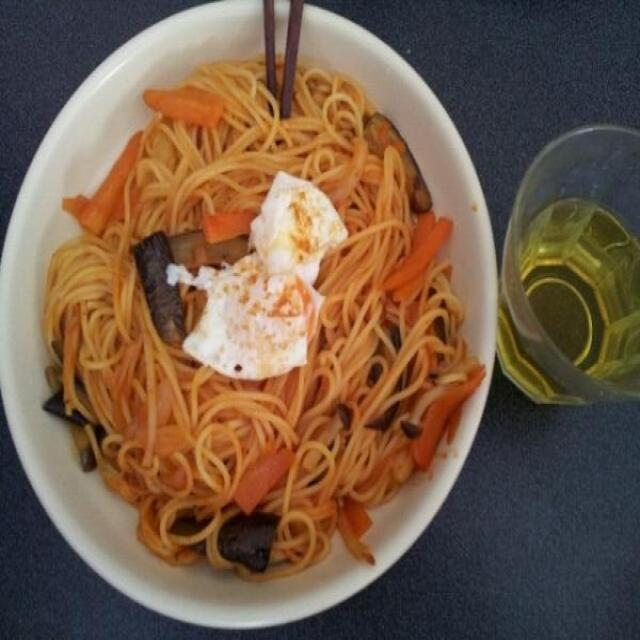Pasta: (52, 59, 463, 554)
